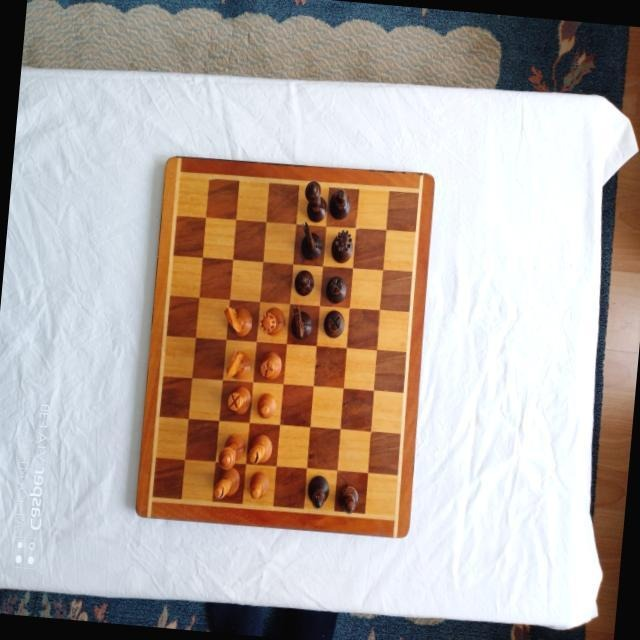black-bishop: (305, 474, 330, 510), (327, 187, 351, 221)
black-king: (302, 179, 330, 223)
black-knight: (298, 219, 325, 260), (290, 304, 314, 340)
black-pawn: (336, 482, 360, 514), (293, 268, 315, 296)
black-queen: (329, 228, 355, 264)
black-rook: (322, 309, 346, 339), (324, 275, 347, 305)
white-bishop: (212, 465, 240, 501), (246, 433, 273, 466)
white-king: (217, 433, 246, 471)
white-knight: (221, 303, 254, 336), (225, 347, 253, 381)
white-pawn: (246, 469, 269, 500), (255, 391, 277, 421)
white-queen: (257, 305, 287, 337)
white-rook: (225, 384, 252, 416), (258, 350, 282, 381)
